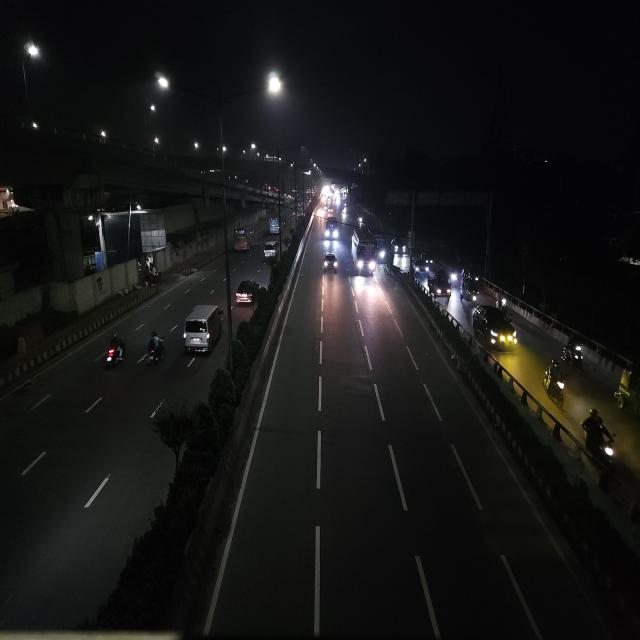bus: (349, 225, 378, 278), (232, 225, 252, 253), (324, 217, 339, 242), (267, 215, 282, 235)
car: (180, 299, 226, 361), (470, 303, 520, 353), (235, 278, 260, 308), (322, 251, 339, 274), (262, 242, 278, 264), (392, 236, 407, 257), (412, 258, 428, 276)
cng: (458, 279, 478, 306)
motorcycle: (578, 408, 620, 471), (98, 329, 128, 374), (543, 360, 565, 413), (140, 329, 168, 369), (562, 336, 587, 371)
pickup_van: (426, 270, 452, 305)
